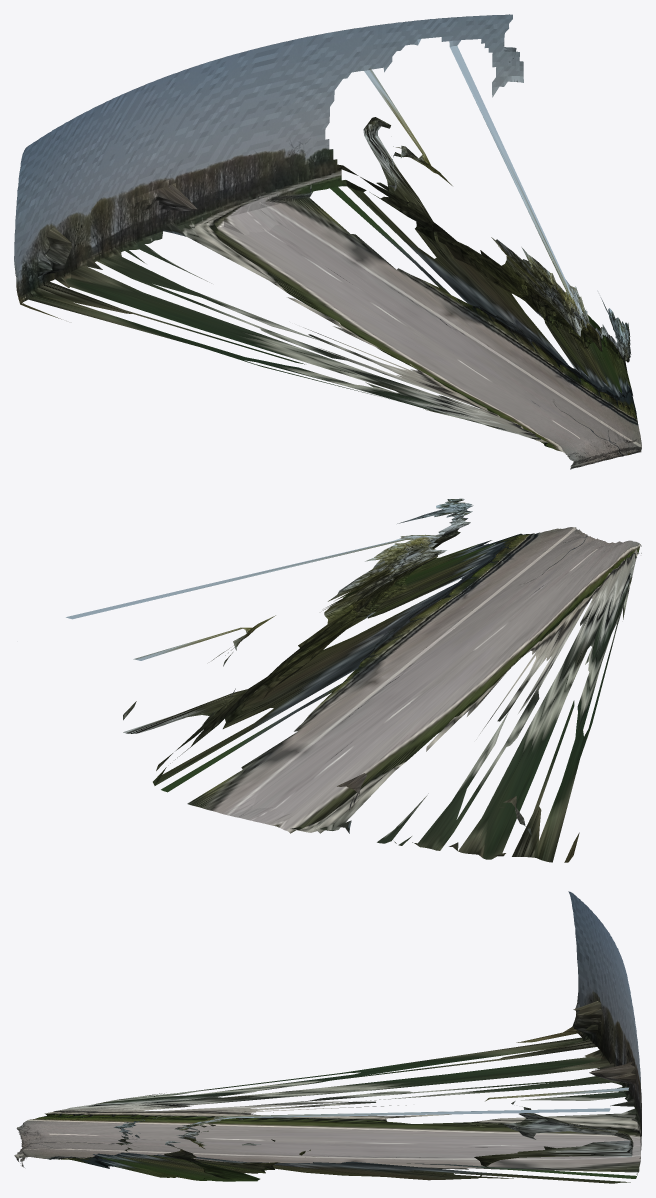
3 views of the same model, one above another, from view 1: azimuth 30°, elevation 25°; view 2: azimuth 150°, elevation 25°; view 3: azimuth 270°, elevation 25° (orthographic). The views are drawn at different scales.
Parts seen in each view (by area): view 1: defaultobject; view 2: defaultobject; view 3: defaultobject.
Part boxes in pixels (x1,y1,x2,y2): defaultobject: (14, 14, 641, 469); defaultobject: (66, 498, 641, 862); defaultobject: (14, 891, 641, 1183).
Bounding box in the file's own units: 37.92 × 12.08 × 44.45.
1 material, 1 textured.
